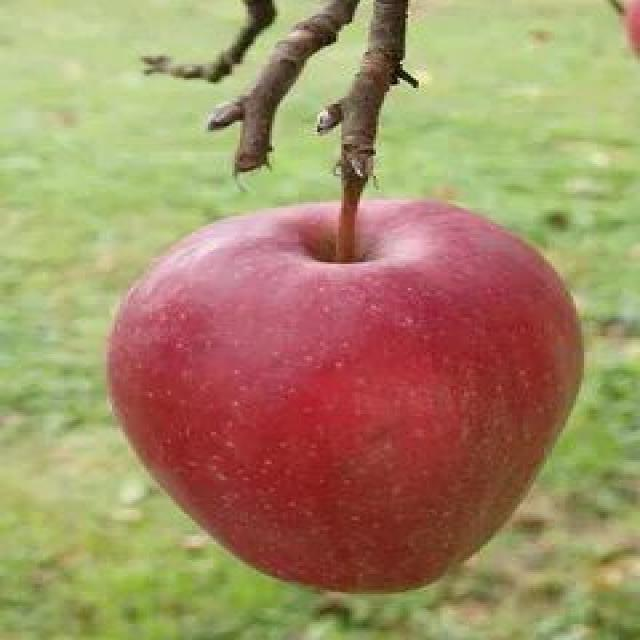Fresh Apple: (110, 202, 580, 590)
